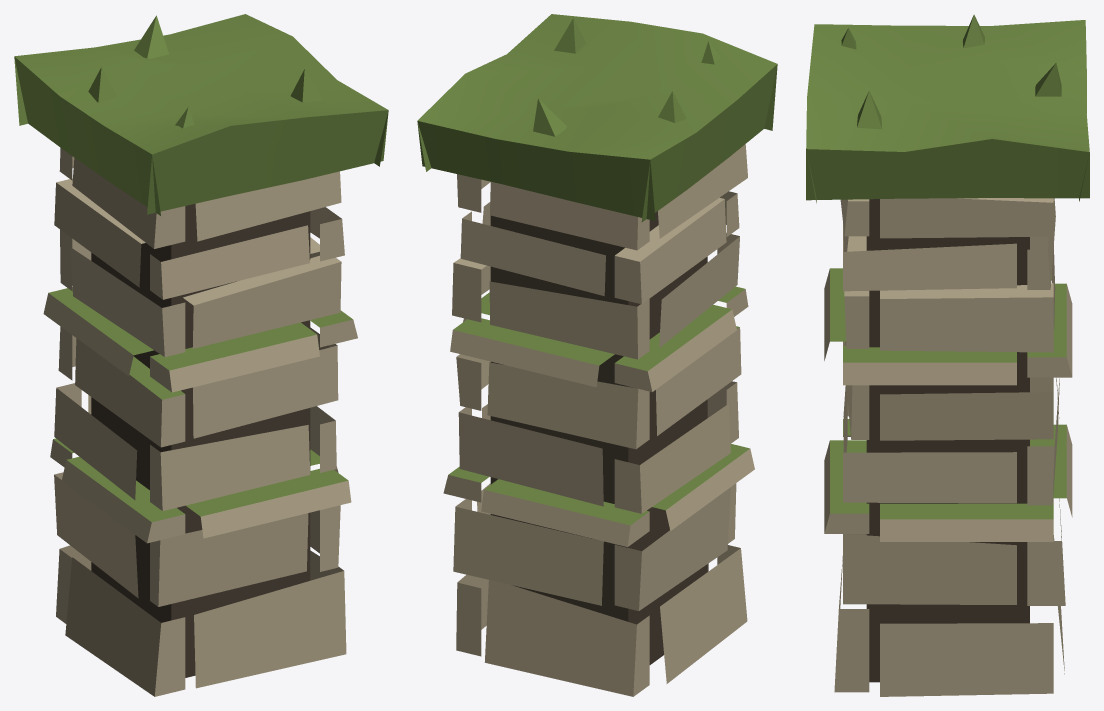
Rendered from grove-post.glb.
3 renders of one model, left to right at view 1: azimuth 30°, elevation 25°; view 2: azimuth 150°, elevation 25°; view 3: azimuth 270°, elevation 25°, orthographic. The views are drawn at different scales.
Visible parts, largest first — view 1: grove-post; view 2: grove-post; view 3: grove-post.
Boxes of the visible parts, left/top/right/bottom form: grove-post: left=14, top=14, right=388, bottom=696; grove-post: left=417, top=14, right=777, bottom=696; grove-post: left=806, top=14, right=1089, bottom=696.
Bounding box in the file's own units: 1.06 × 2.47 × 1.08.
